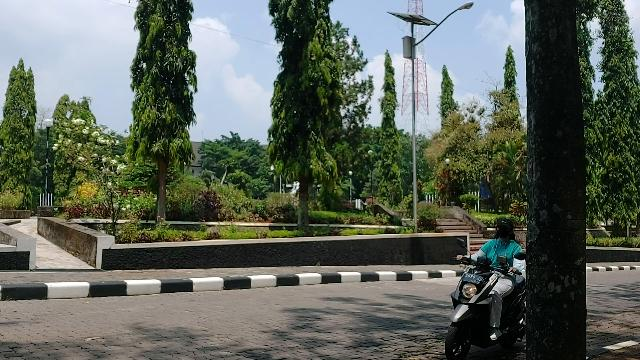motor: (445, 238, 530, 360)
non-helm: (496, 218, 516, 242)
